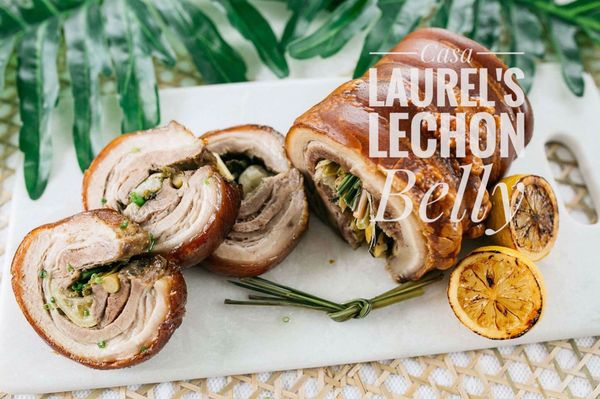burger: (226, 275, 437, 325)
soup: (284, 28, 546, 282), (10, 207, 188, 370), (81, 119, 242, 267)
